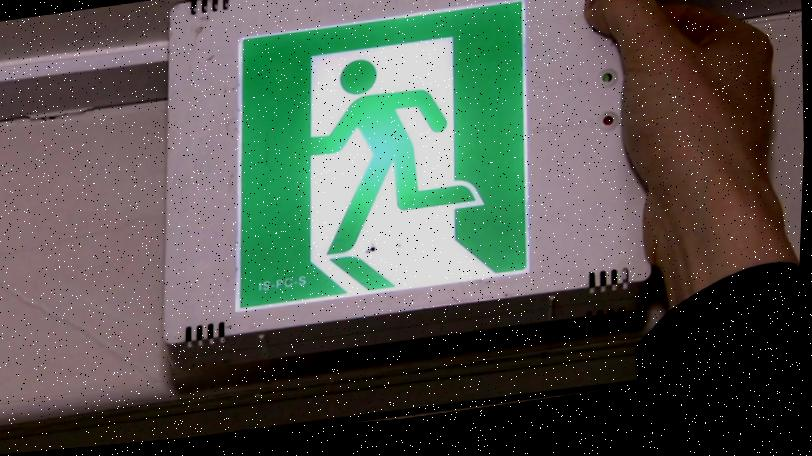emergency_exit: (163, 1, 652, 374), (235, 1, 530, 314)
